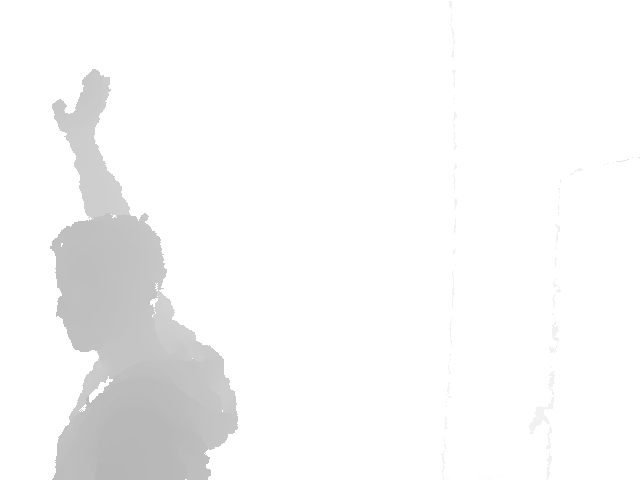hand: (51, 68, 112, 137)
head: (48, 213, 169, 363)
person: (48, 68, 240, 480)
